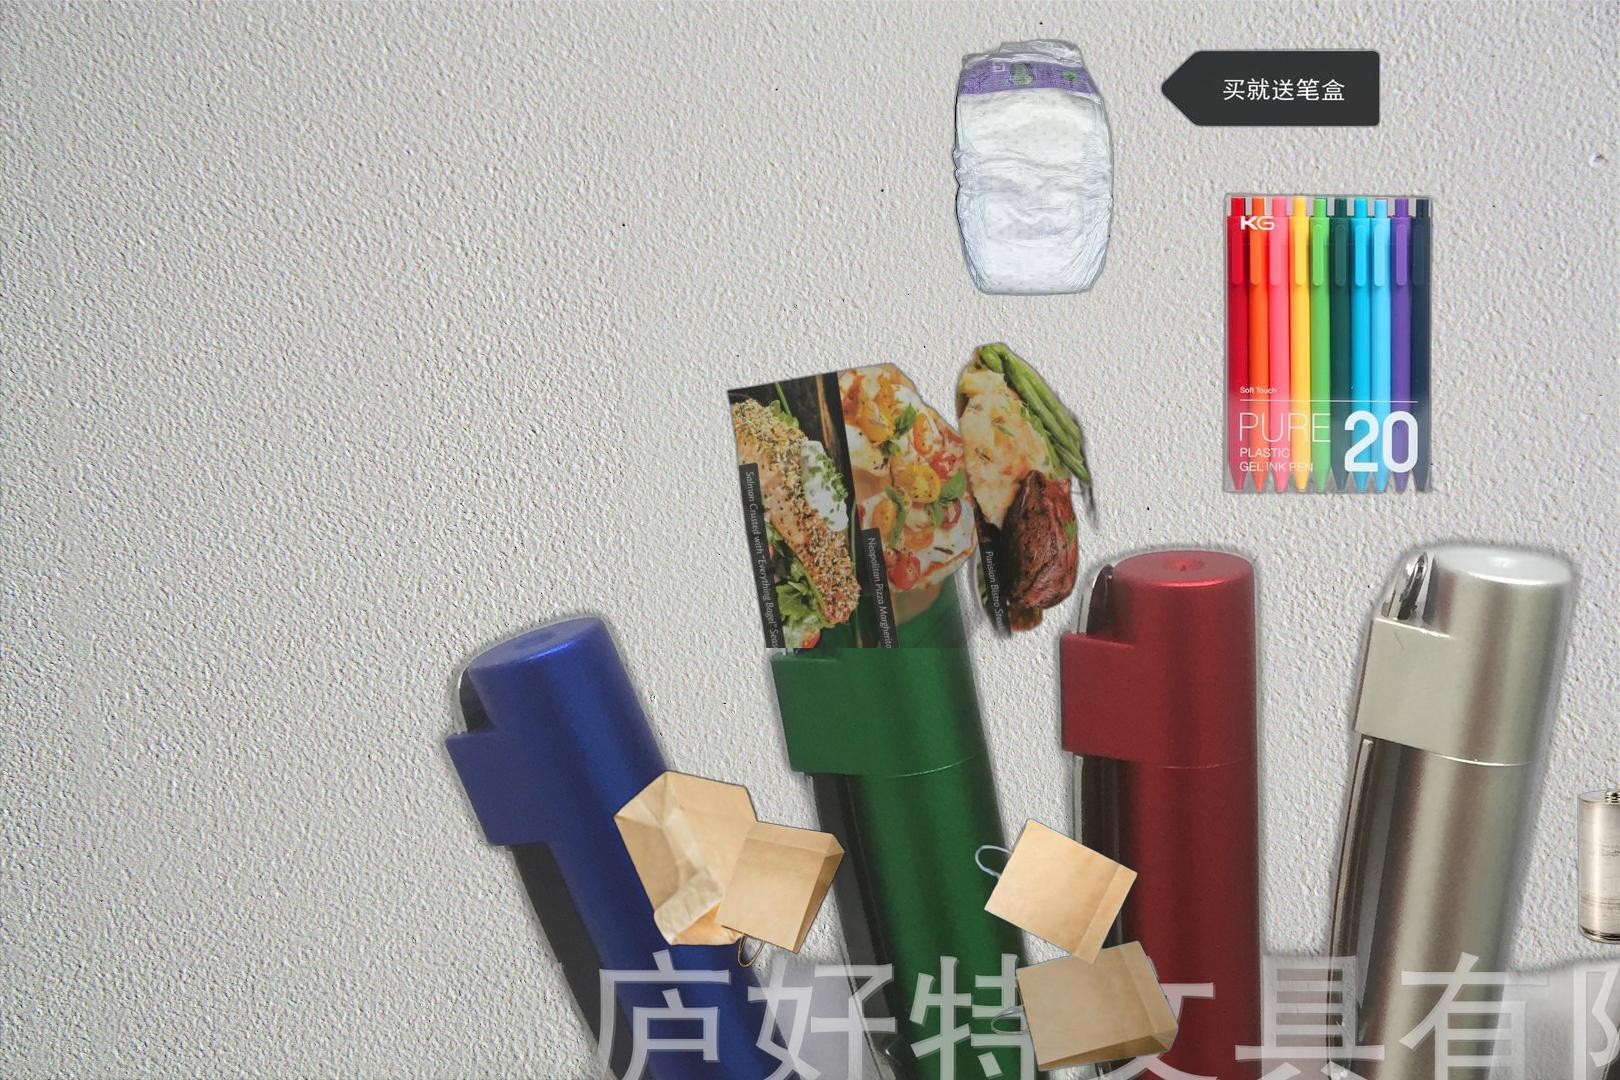battery: (1575, 786, 1620, 947)
paper: (723, 337, 1120, 648)
paper-bag: (973, 817, 1180, 1073), (610, 767, 849, 969)
penholder: (407, 522, 1620, 1080), (1156, 45, 1444, 499)
trash: (946, 36, 1116, 299)
